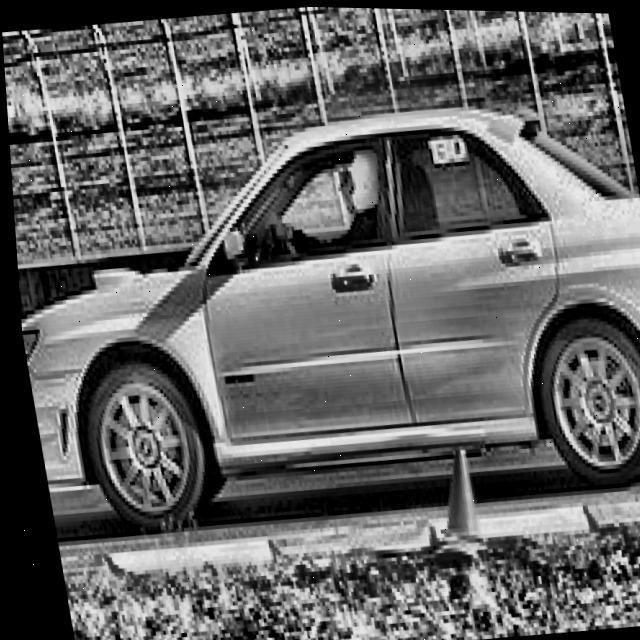light_vehicle: (4, 68, 640, 537)
